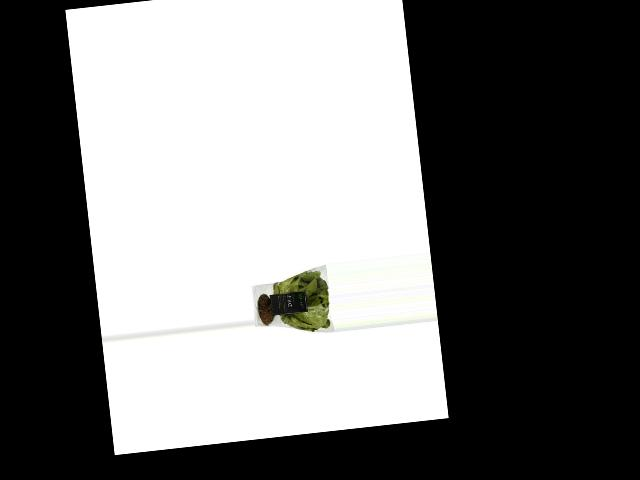lettuce: (249, 266, 333, 340)
